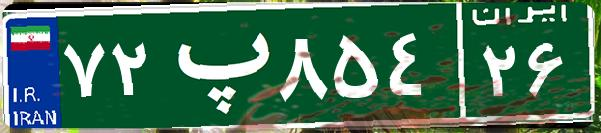2: (475, 38, 525, 113), (110, 28, 158, 105)
4: (385, 28, 445, 110)
5: (330, 28, 385, 110)
6: (525, 38, 570, 115)
7: (57, 26, 110, 107)
8: (273, 28, 330, 110)
پ: (158, 15, 273, 115)
